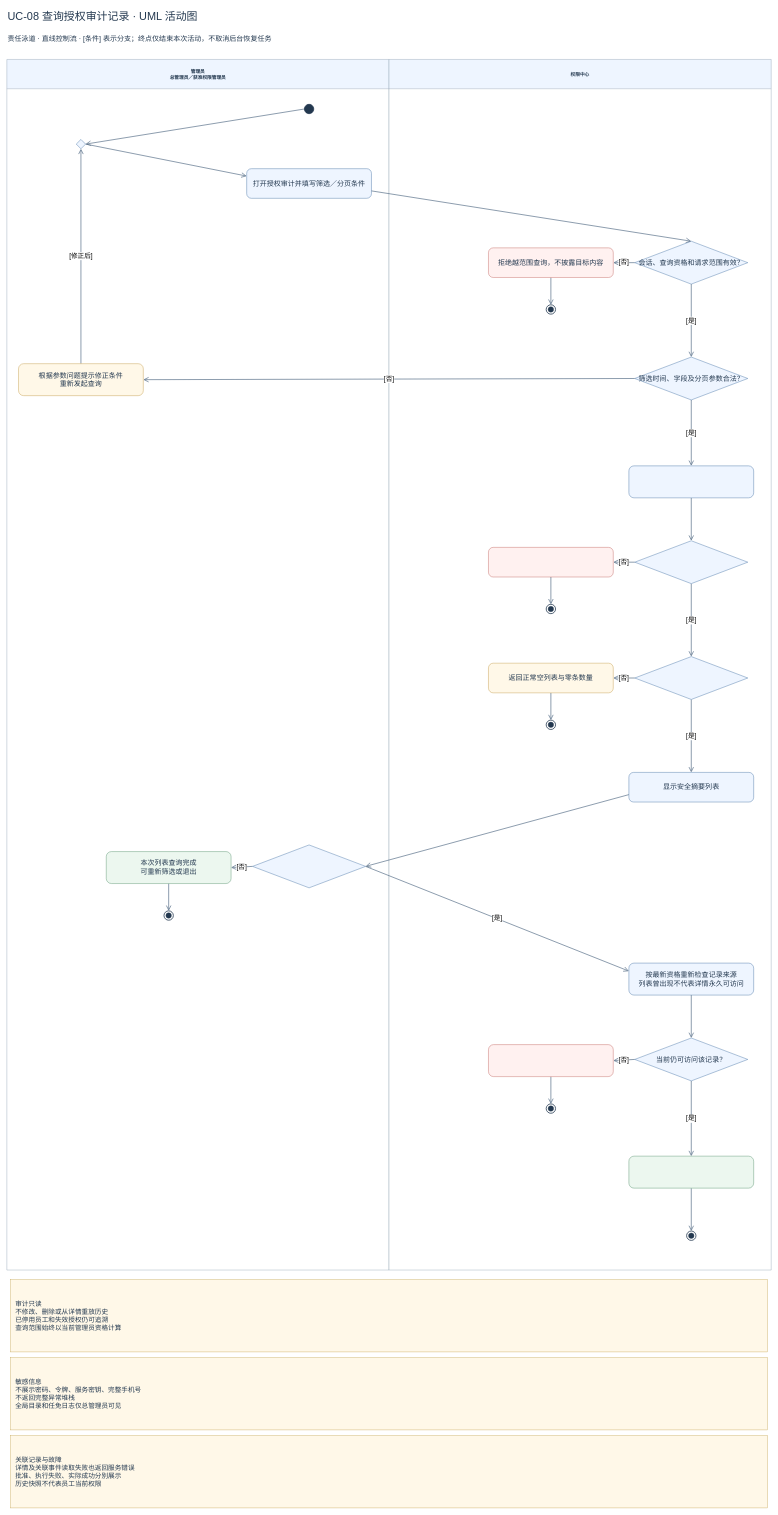
This 778x1515 diagram has some shape labels left out. Here are the shapes that lost their labels. From the top down, the centre of each, then its label:
the point at 691,481: 后端强制附加当前管理范围 分页读取范围内摘要与总数
the point at 550,562: 返回服务错误，不伪装无日志
the point at 691,562: 查询正常完成？
the point at 691,677: 存在匹配记录？
the point at 309,866: 管理员选择查看详情？
the point at 550,1060: 统一不可访问／未找到响应 不泄露越范围记录
the point at 691,1172: 展示差异、审批与执行关联事件 区分拟变更和实际生效
